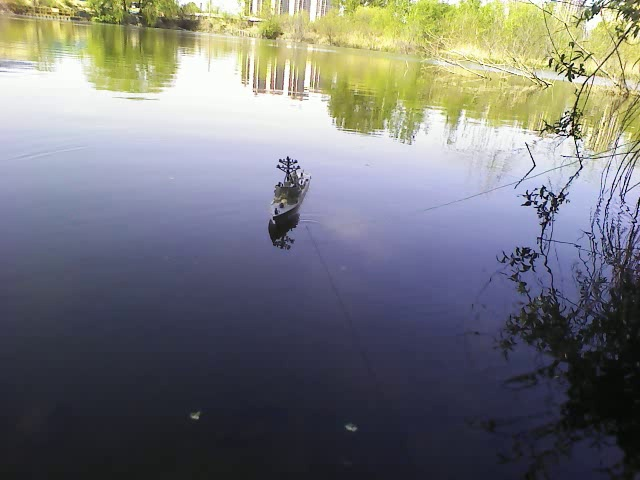warship: (267, 151, 314, 224)
